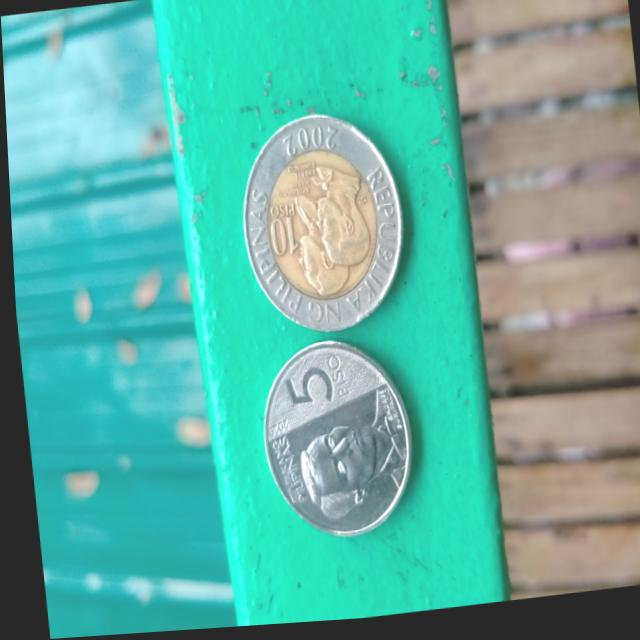10_Old_Front: (245, 131, 395, 324)
5_New_Front: (261, 343, 407, 543)
